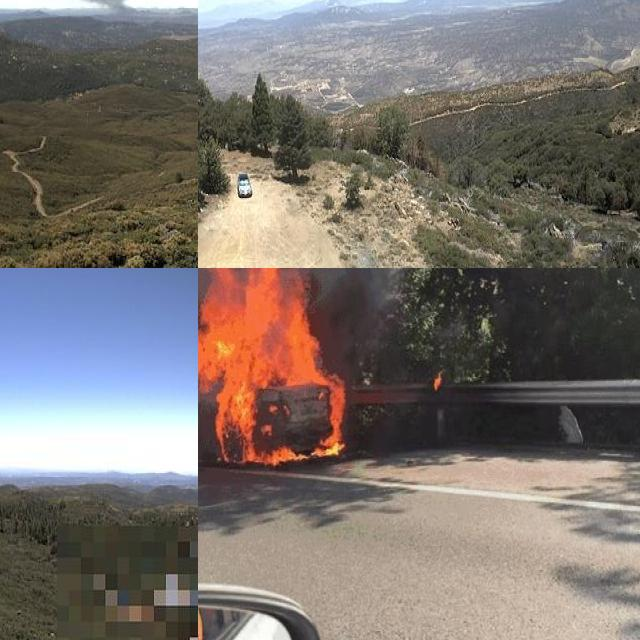fire: (198, 268, 349, 474)
smoke: (15, 0, 141, 21), (320, 0, 355, 7)
